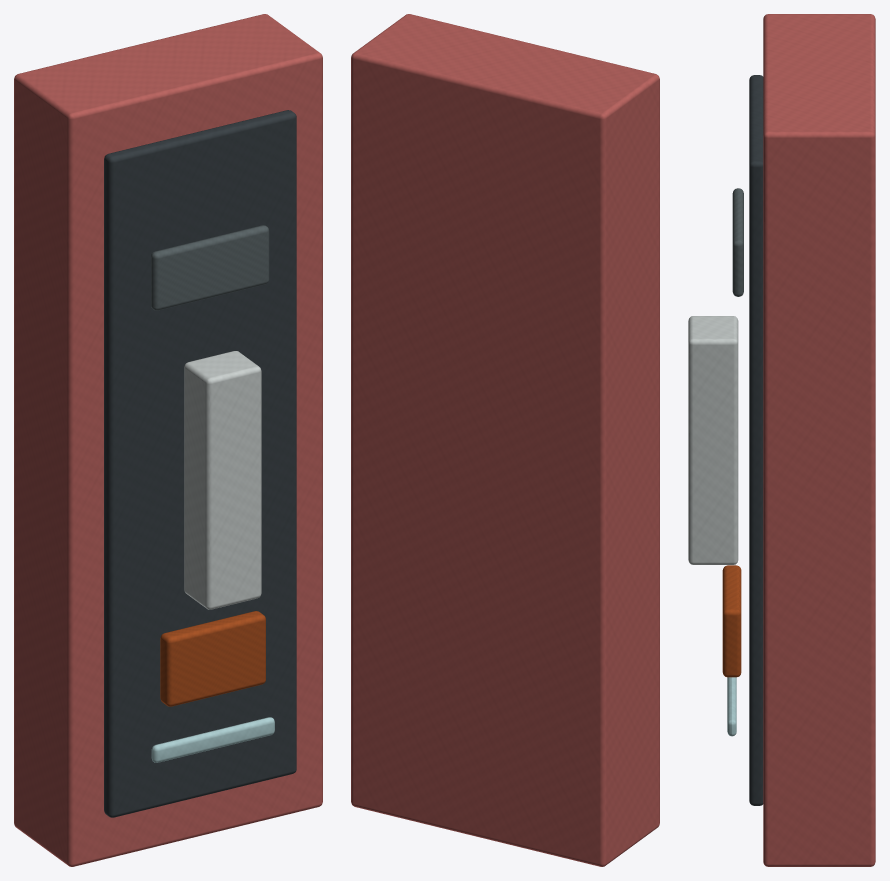
File: EmergencyPhone.fbx
3 renders of one model, left to right at view 1: azimuth 30°, elevation 25°; view 2: azimuth 150°, elevation 25°; view 3: azimuth 270°, elevation 25°, orthographic. The views are drawn at different scales.
Visible parts, largest first — view 1: EmergencyPhone_Mesh; view 2: EmergencyPhone_Mesh; view 3: EmergencyPhone_Mesh.
Part boxes in pixels (x1,y1,x2,y2): EmergencyPhone_Mesh: (14, 14, 322, 866); EmergencyPhone_Mesh: (351, 14, 659, 866); EmergencyPhone_Mesh: (688, 14, 875, 866).
Bounding box in the file's own units: 46 × 130 × 30.
